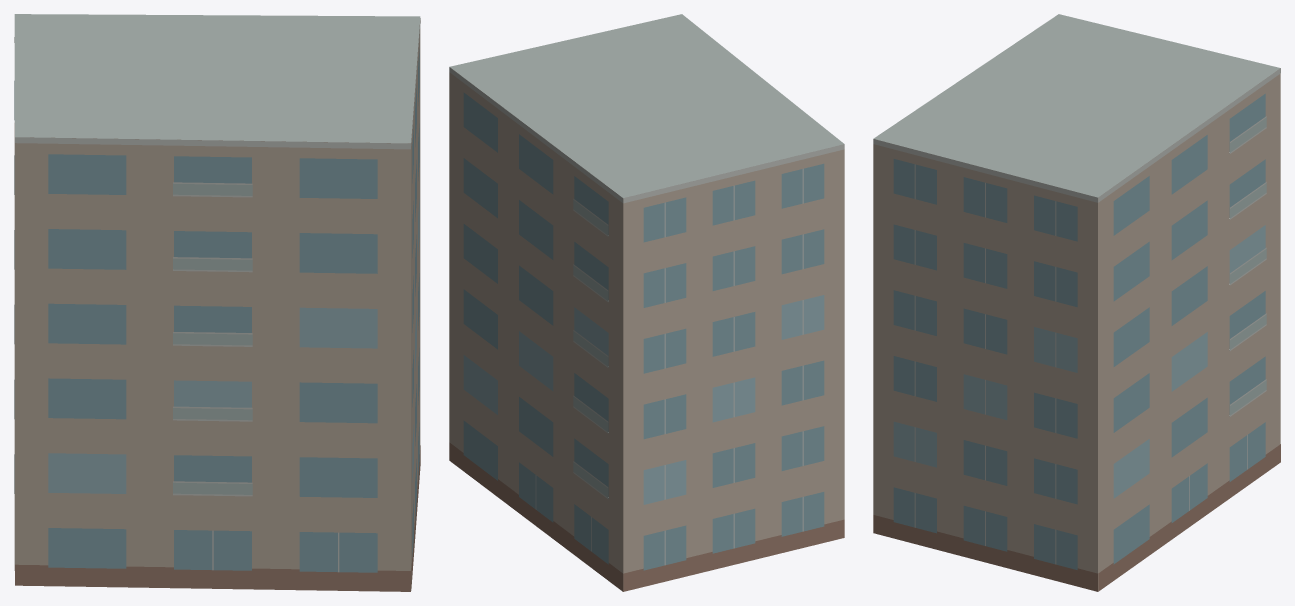
The model's file is survey-upis-32968677.glb.
3 views of the same model, side by side, from view 1: azimuth 30°, elevation 25°; view 2: azimuth 150°, elevation 25°; view 3: azimuth 270°, elevation 25° (orthographic). The views are drawn at different scales.
Visible parts, largest first — view 1: survey-upis-32968677.tmp; view 2: survey-upis-32968677.tmp; view 3: survey-upis-32968677.tmp.
Part boxes in pixels (x1=…): survey-upis-32968677.tmp: x1=14, y1=14, x2=420, y2=591; survey-upis-32968677.tmp: x1=449, y1=14, x2=844, y2=591; survey-upis-32968677.tmp: x1=873, y1=14, x2=1280, y2=591.
Size of the model in its own units: 18.28 by 18.3 by 17.15.
